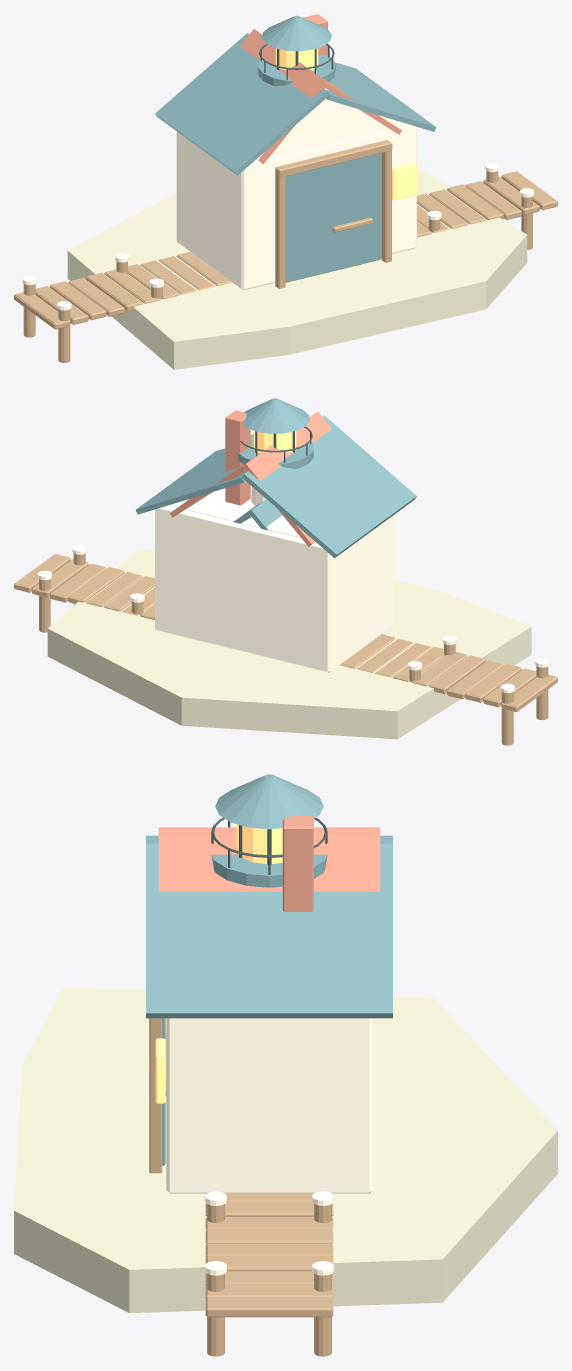
The model's file is approved-modules.glb.
3 views of the same model, one above another, from view 1: azimuth 30°, elevation 25°; view 2: azimuth 150°, elevation 25°; view 3: azimuth 270°, elevation 25° (orthographic). The views are drawn at different scales.
Visible parts, largest first — view 1: Island_MAT_V4_Stone, Workshop_MAT_V4_Slate, Workshop_MAT_V4_Chalk, Pier_MAT_V4_Timber, Workshop_MAT_V4_Timber, Lighthouse_MAT_V4_Slate, PostOffice_MAT_V4_Terracotta, Pier_MAT_V4_Chalk, Workshop_MAT_V4_Lamplight, Lighthouse_MAT_V4_Lamplight, Lighthouse_MAT_V4_Ink; view 2: Island_MAT_V4_Stone, Workshop_MAT_V4_Chalk, Pier_MAT_V4_Timber, Workshop_MAT_V4_Slate, PostOffice_MAT_V4_Terracotta, Lighthouse_MAT_V4_Slate, PostOffice_MAT_V4_Chalk, Pier_MAT_V4_Chalk, Cottage_MAT_V4_Slate, Lighthouse_MAT_V4_Lamplight, Cottage_MAT_V4_Terracotta, Lighthouse_MAT_V4_Ink; view 3: Island_MAT_V4_Stone, Workshop_MAT_V4_Chalk, Workshop_MAT_V4_Slate, Pier_MAT_V4_Timber, PostOffice_MAT_V4_Terracotta, Lighthouse_MAT_V4_Slate, Workshop_MAT_V4_Timber, Lighthouse_MAT_V4_Lamplight, Pier_MAT_V4_Chalk, Lighthouse_MAT_V4_Ink, Workshop_MAT_V4_Lamplight.
Part boxes in pixels (bbox=[...]): Island_MAT_V4_Stone: bbox=[67, 167, 527, 369]; Workshop_MAT_V4_Slate: bbox=[155, 33, 436, 282]; Workshop_MAT_V4_Chalk: bbox=[176, 99, 416, 290]; Pier_MAT_V4_Timber: bbox=[14, 171, 557, 362]; Workshop_MAT_V4_Timber: bbox=[275, 140, 392, 288]; Lighthouse_MAT_V4_Slate: bbox=[258, 15, 335, 86]; PostOffice_MAT_V4_Terracotta: bbox=[240, 14, 401, 164]; Pier_MAT_V4_Chalk: bbox=[22, 162, 534, 310]; Workshop_MAT_V4_Lamplight: bbox=[392, 162, 416, 200]; Lighthouse_MAT_V4_Lamplight: bbox=[275, 48, 318, 70]; Lighthouse_MAT_V4_Ink: bbox=[259, 44, 334, 80]; Island_MAT_V4_Stone: bbox=[47, 549, 531, 739]; Workshop_MAT_V4_Chalk: bbox=[155, 499, 395, 672]; Pier_MAT_V4_Timber: bbox=[14, 553, 557, 745]; Workshop_MAT_V4_Slate: bbox=[136, 415, 416, 558]; PostOffice_MAT_V4_Terracotta: bbox=[170, 410, 331, 546]; Lighthouse_MAT_V4_Slate: bbox=[238, 398, 313, 468]; PostOffice_MAT_V4_Chalk: bbox=[186, 485, 300, 537]; Pier_MAT_V4_Chalk: bbox=[37, 545, 549, 692]; Cottage_MAT_V4_Slate: bbox=[233, 499, 282, 530]; Lighthouse_MAT_V4_Lamplight: bbox=[253, 431, 296, 453]; Cottage_MAT_V4_Terracotta: bbox=[225, 468, 250, 505]; Lighthouse_MAT_V4_Ink: bbox=[240, 426, 312, 462]; Island_MAT_V4_Stone: bbox=[14, 987, 557, 1313]; Workshop_MAT_V4_Chalk: bbox=[166, 1018, 372, 1193]; Workshop_MAT_V4_Slate: bbox=[146, 835, 392, 1165]; Pier_MAT_V4_Timber: bbox=[205, 1193, 333, 1356]; PostOffice_MAT_V4_Terracotta: bbox=[158, 816, 380, 906]; Lighthouse_MAT_V4_Slate: bbox=[211, 774, 327, 887]; Workshop_MAT_V4_Timber: bbox=[149, 1018, 162, 1173]; Lighthouse_MAT_V4_Lamplight: bbox=[236, 824, 282, 863]; Pier_MAT_V4_Chalk: bbox=[204, 1191, 334, 1275]; Lighthouse_MAT_V4_Ink: bbox=[211, 817, 327, 874]; Workshop_MAT_V4_Lamplight: bbox=[155, 1038, 165, 1103].
Size of the model in its own units: 10.89 by 5.57 by 6.6.
